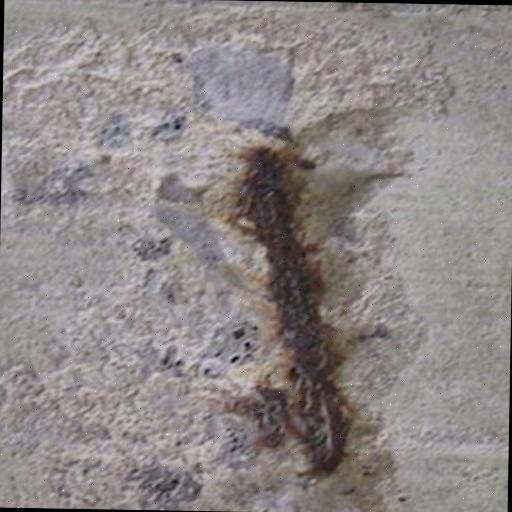spalling: (186, 78, 416, 484)
